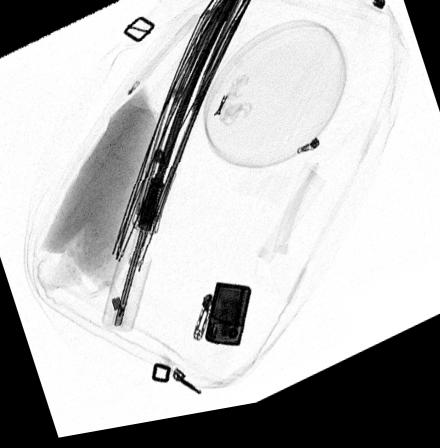Lighter: (204, 290, 252, 356)
